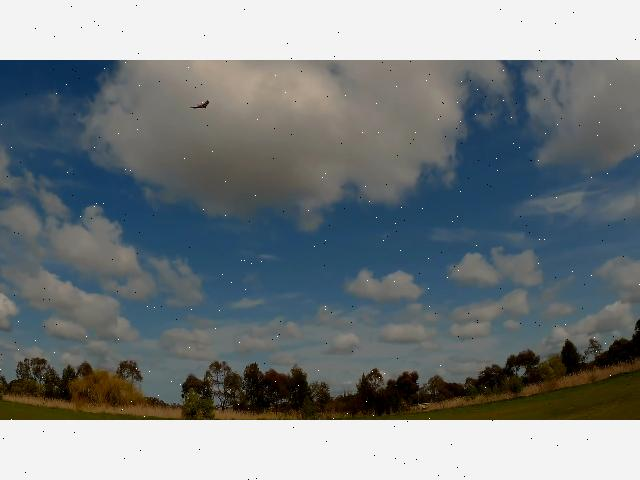Anti-Drone: (190, 100, 210, 109)
